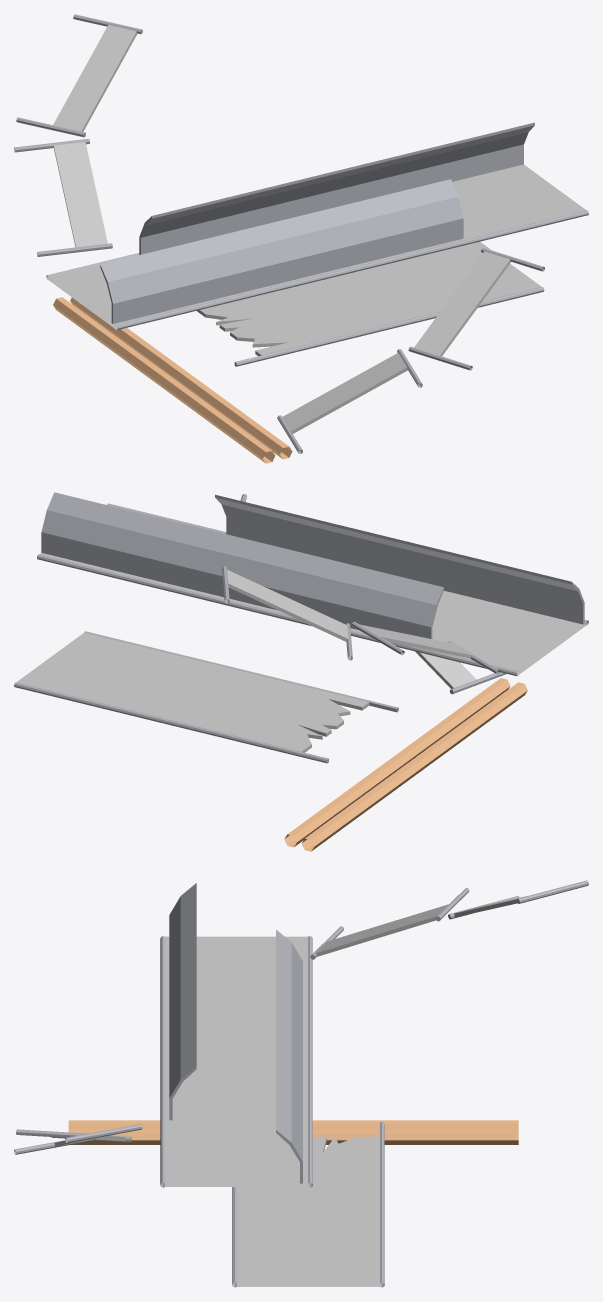
The model's file is Quarry3.fbx.
3 renders of one model, top to bottom at view 1: azimuth 30°, elevation 25°; view 2: azimuth 150°, elevation 25°; view 3: azimuth 270°, elevation 25°, orthographic. The views are drawn at different scales.
Visible parts, largest first — view 1: Quarry3; view 2: Quarry3; view 3: Quarry3.
Boxes of the visible parts, left/top/right/bottom form: Quarry3: left=14, top=14, right=588, bottom=463; Quarry3: left=14, top=492, right=588, bottom=851; Quarry3: left=14, top=880, right=588, bottom=1287.
Bounding box in the file's own units: 48.37 × 25.44 × 47.62.
